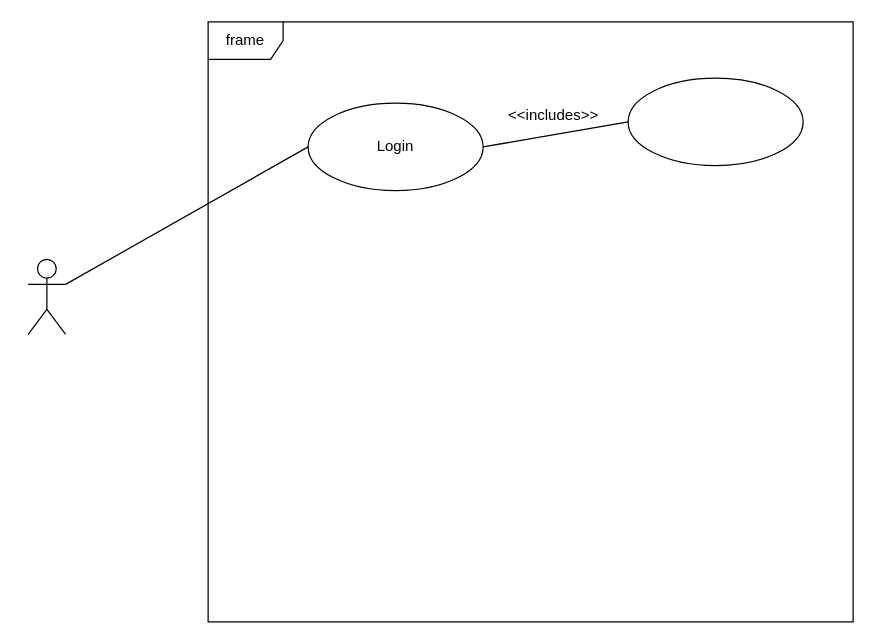
Image size: 875x644. Some labels were removed from this diagram. Each missing label, with the centre of its shape:
Student: point 46,296
Validation: point 715,121
